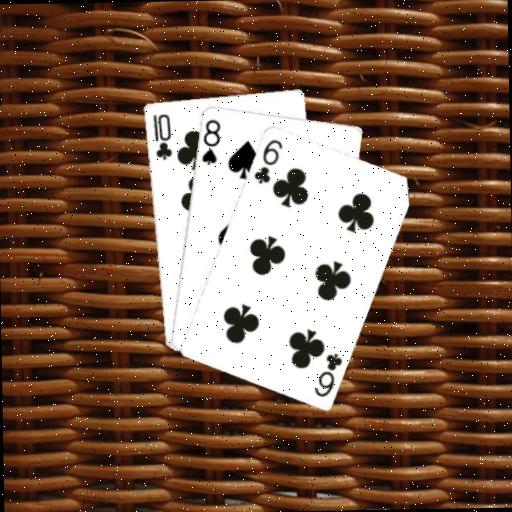10C: (150, 110, 174, 161)
6C: (250, 136, 285, 186), (311, 349, 345, 399)
8S: (198, 116, 223, 167)
